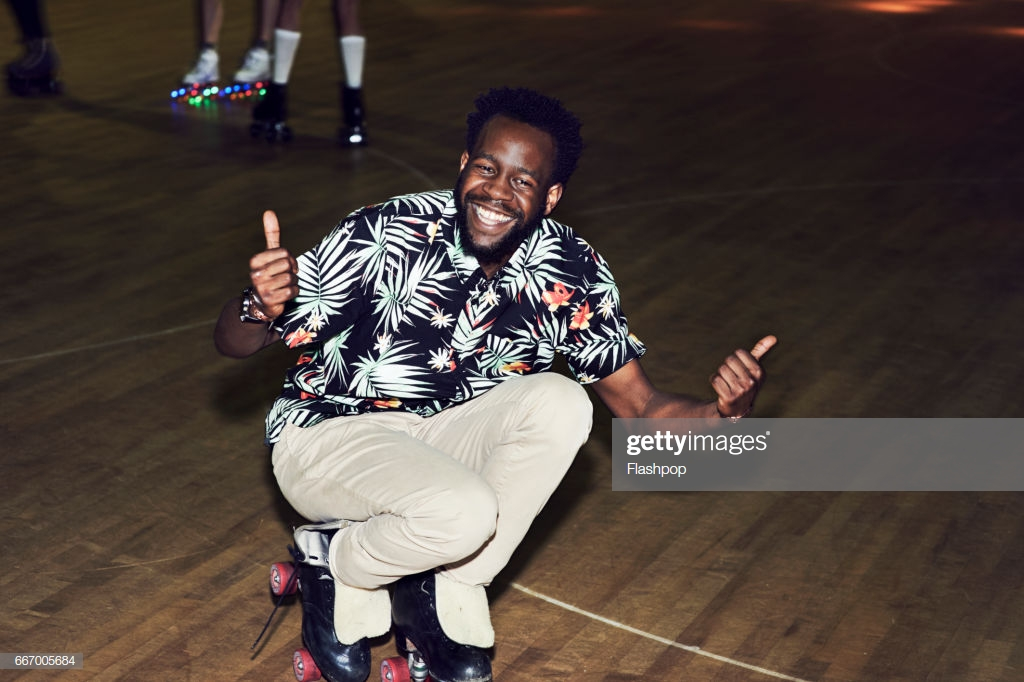thumbsup: (707, 334, 778, 405), (248, 209, 300, 305)
